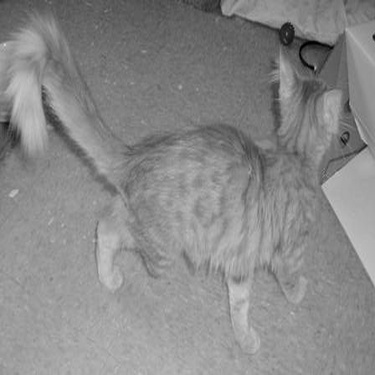cat: (10, 18, 340, 342)
